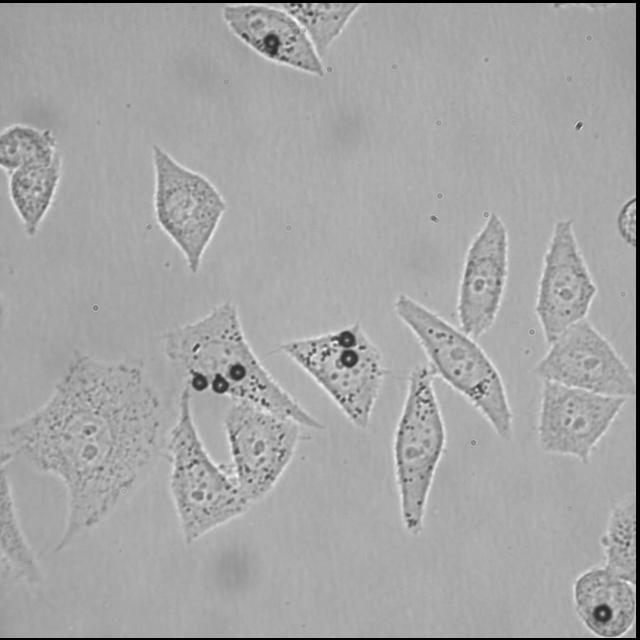microbeads: (336, 326, 360, 348), (592, 602, 614, 622), (190, 372, 210, 392), (228, 362, 248, 382), (340, 349, 360, 368), (212, 372, 230, 393)
